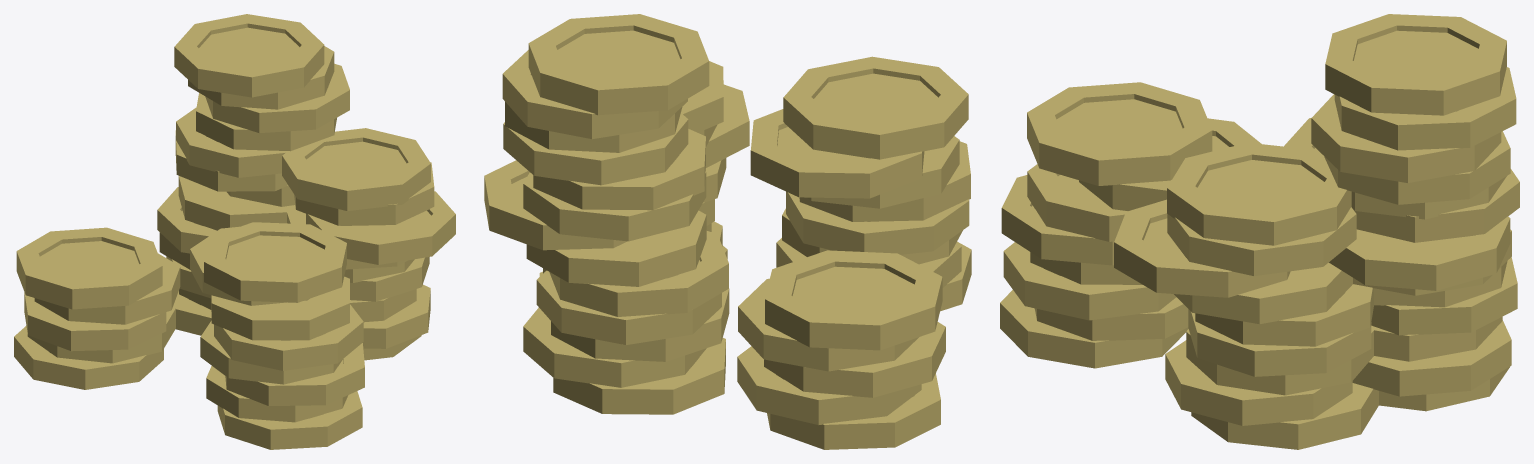
The model's file is Coin_Pile.glb.
The picture shows the model from 3 angles, left to right: view 1: azimuth 30°, elevation 25°; view 2: azimuth 150°, elevation 25°; view 3: azimuth 270°, elevation 25°; orthographic projection. The views are drawn at different scales.
Parts seen in each view (by area): view 1: Coin_Pile; view 2: Coin_Pile; view 3: Coin_Pile.
Boxes of the visible parts, x1,y1,x2,y2 form: Coin_Pile: (14,14,455,449); Coin_Pile: (484,14,971,449); Coin_Pile: (1000,14,1519,449).
Size of the model in its own units: 0.1364 by 0.0946 by 0.1354.
